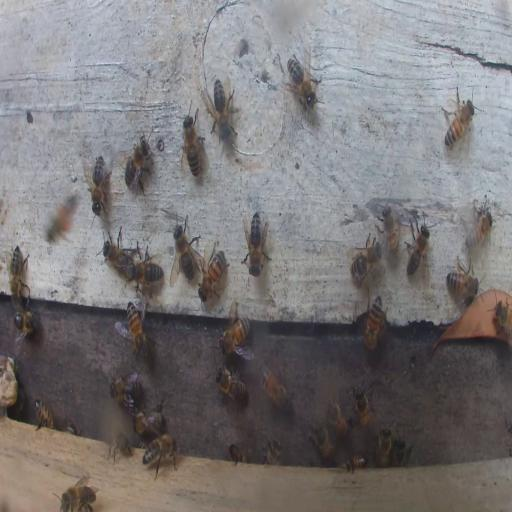bee: (207, 74, 239, 140), (123, 131, 155, 195), (170, 212, 200, 280), (440, 90, 476, 146), (285, 54, 319, 110), (46, 190, 79, 245), (405, 214, 432, 277), (179, 109, 204, 177), (350, 229, 382, 282), (244, 210, 270, 275), (102, 225, 134, 277), (198, 247, 227, 304), (141, 433, 179, 475), (85, 154, 109, 218), (219, 308, 250, 356), (260, 363, 290, 409), (362, 295, 386, 352), (446, 258, 479, 299), (126, 301, 149, 359), (109, 369, 140, 412), (378, 202, 399, 262), (60, 478, 97, 512), (130, 252, 162, 290), (216, 364, 246, 403), (326, 397, 353, 440), (8, 244, 28, 302), (464, 210, 492, 250), (133, 405, 165, 437), (310, 422, 336, 460), (353, 384, 373, 429), (373, 423, 392, 467), (493, 300, 512, 338), (110, 432, 134, 461), (260, 436, 282, 465), (13, 309, 36, 336), (392, 437, 413, 463), (34, 400, 53, 428), (342, 454, 367, 472), (114, 322, 131, 346), (228, 443, 247, 464)
